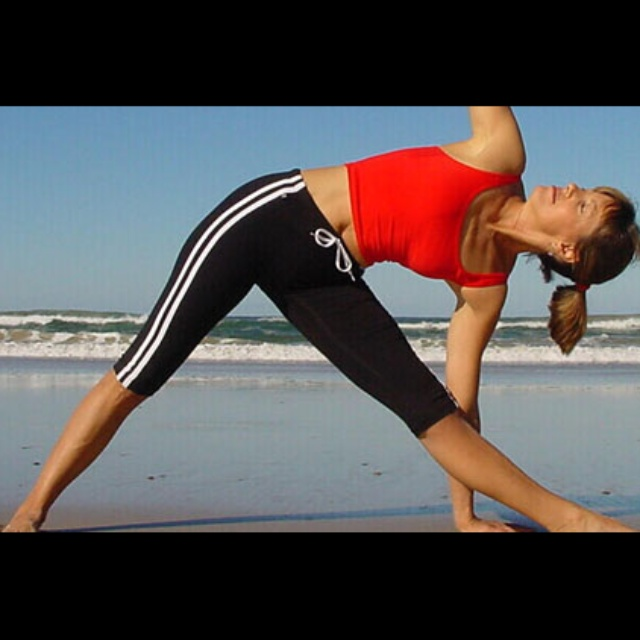Triangle_Pose: (2, 104, 640, 536)
